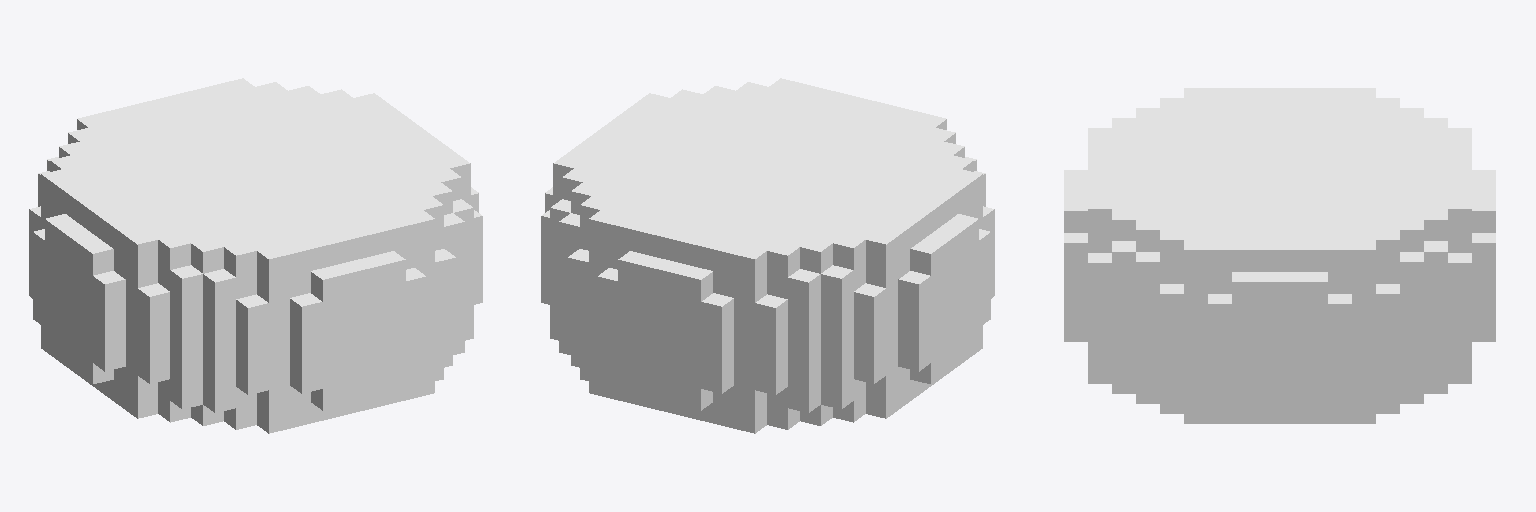
The model's file is factory4.4-6.obj.
The picture shows the model from 3 angles: view 1: azimuth 30°, elevation 25°; view 2: azimuth 150°, elevation 25°; view 3: azimuth 270°, elevation 25°; orthographic projection.
Visible parts, largest first — view 1: object 1; view 2: object 1; view 3: object 1.
Part boxes in pixels (x1,y1,x2,y2): object 1: (29,78,482,433); object 1: (541,78,994,433); object 1: (1064,88,1495,423).
Size of the model in its own units: 1.8 by 0.8 by 1.8.